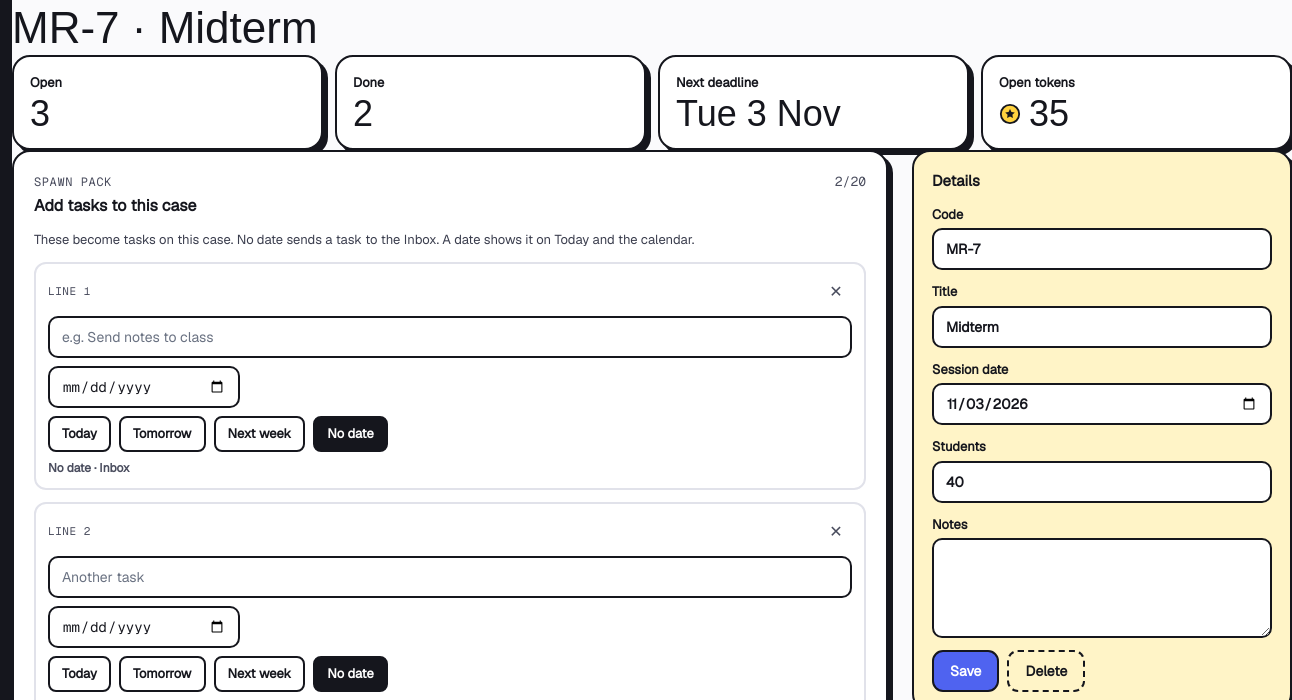
Test case: case dashboard and spawn › posts the spawn body for this case and reloads items and stats
The image size is (1292, 700).
Type "Print attendance sheets" into the field named "Task 1 title" at (450, 336), box [48,316,852,358]
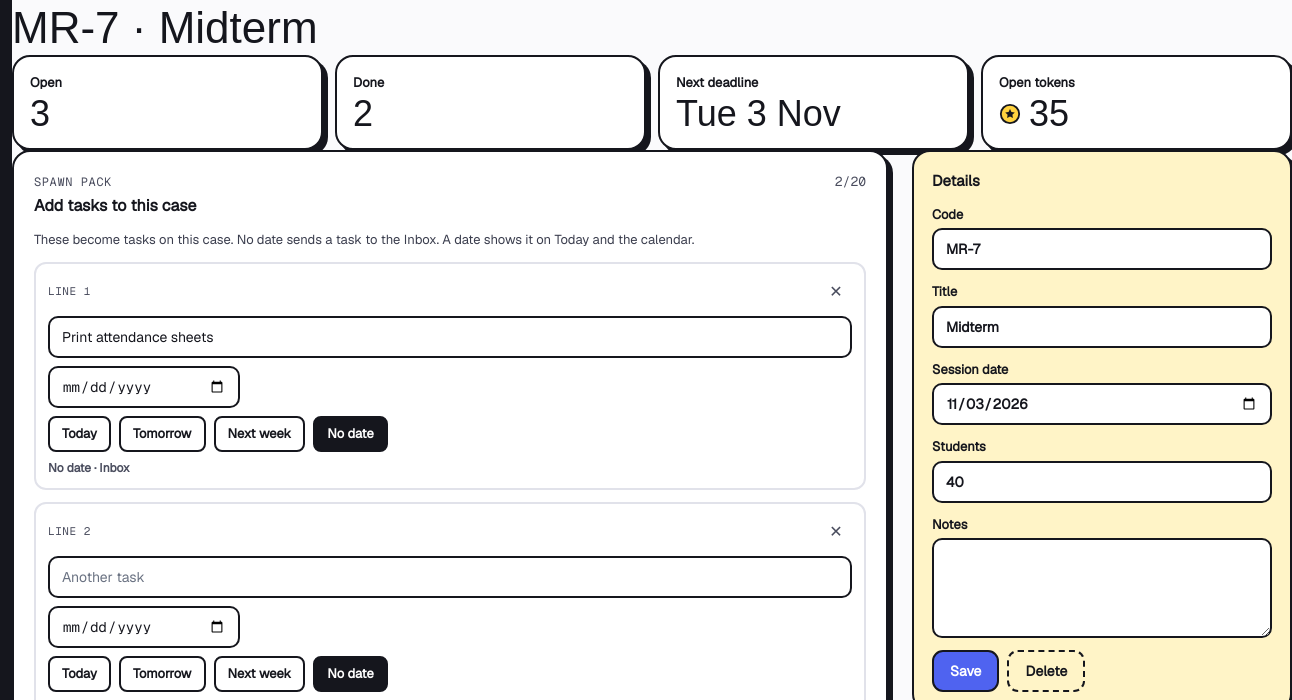
Type "2026-11-03" into the date field named "Task 1 date" at (144, 386), box [48,366,240,408]
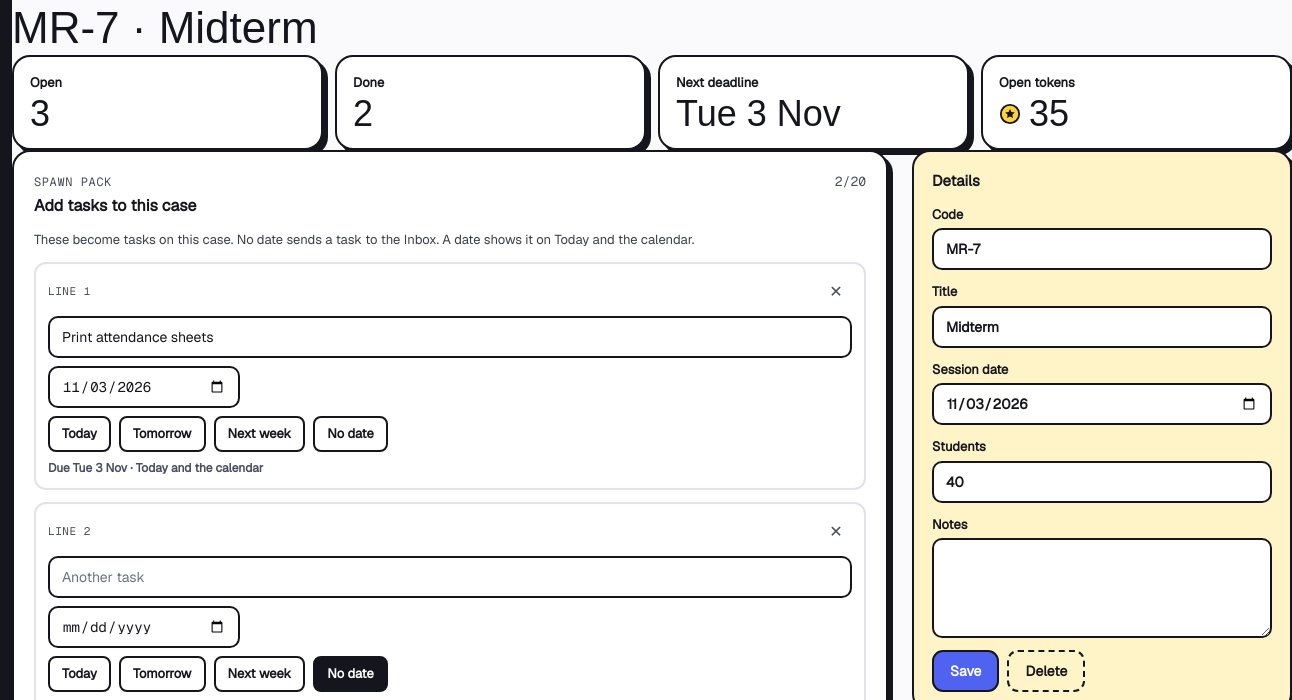
Type "Collect scripts" into the field named "Task 2 title" at (450, 576), box [48,556,852,598]
(page scrolled)
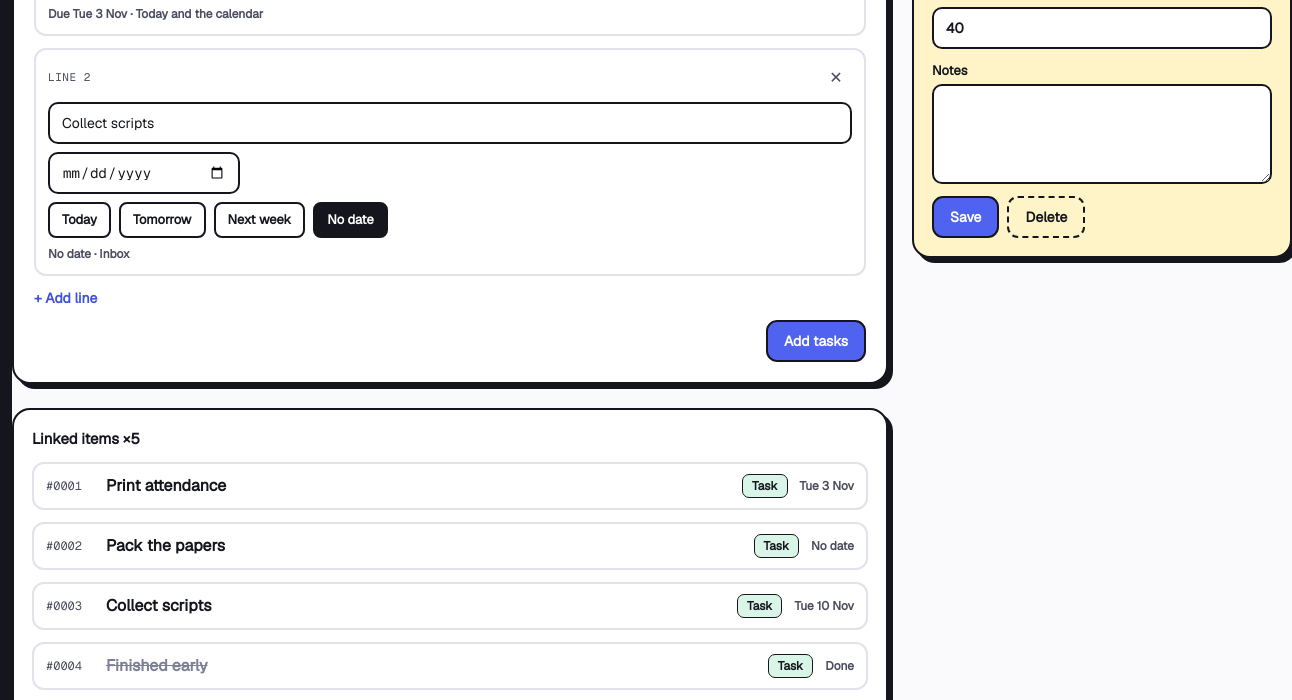
Click the button "Add tasks" at (816, 340), box [766,320,866,362]
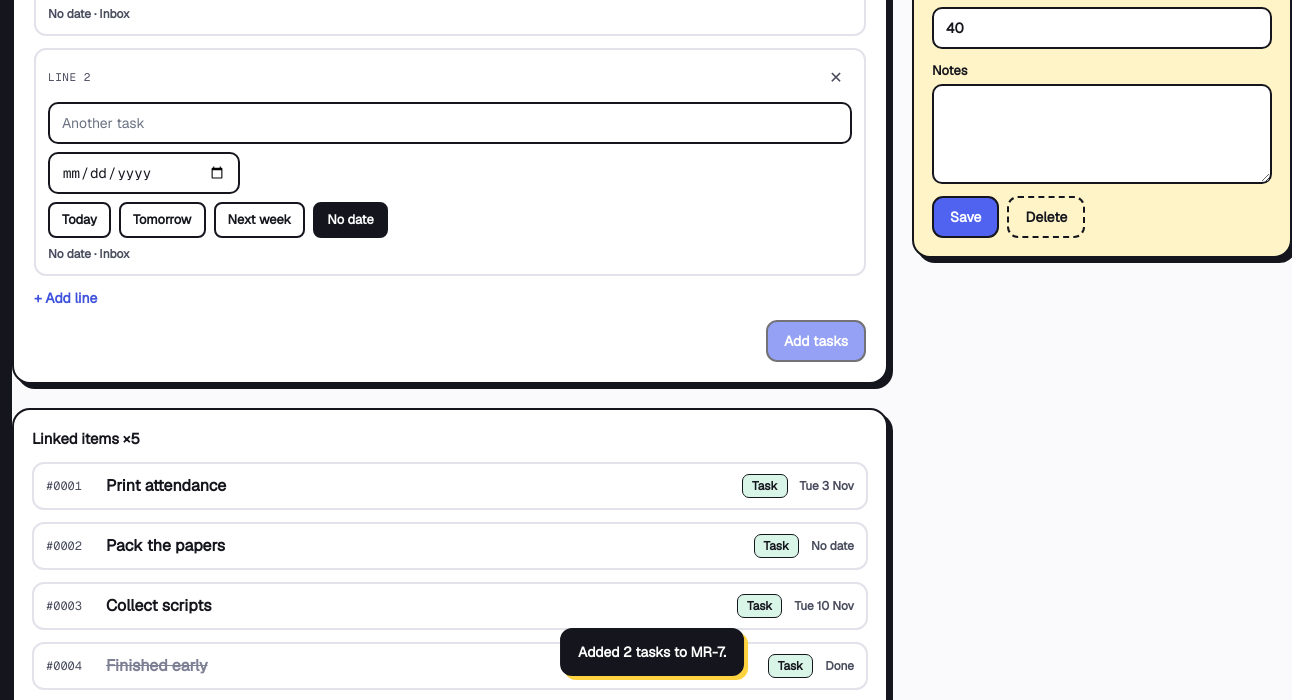
Expected: the text "Added 2 tasks to MR-7." is shown, [560,628,744,676]
